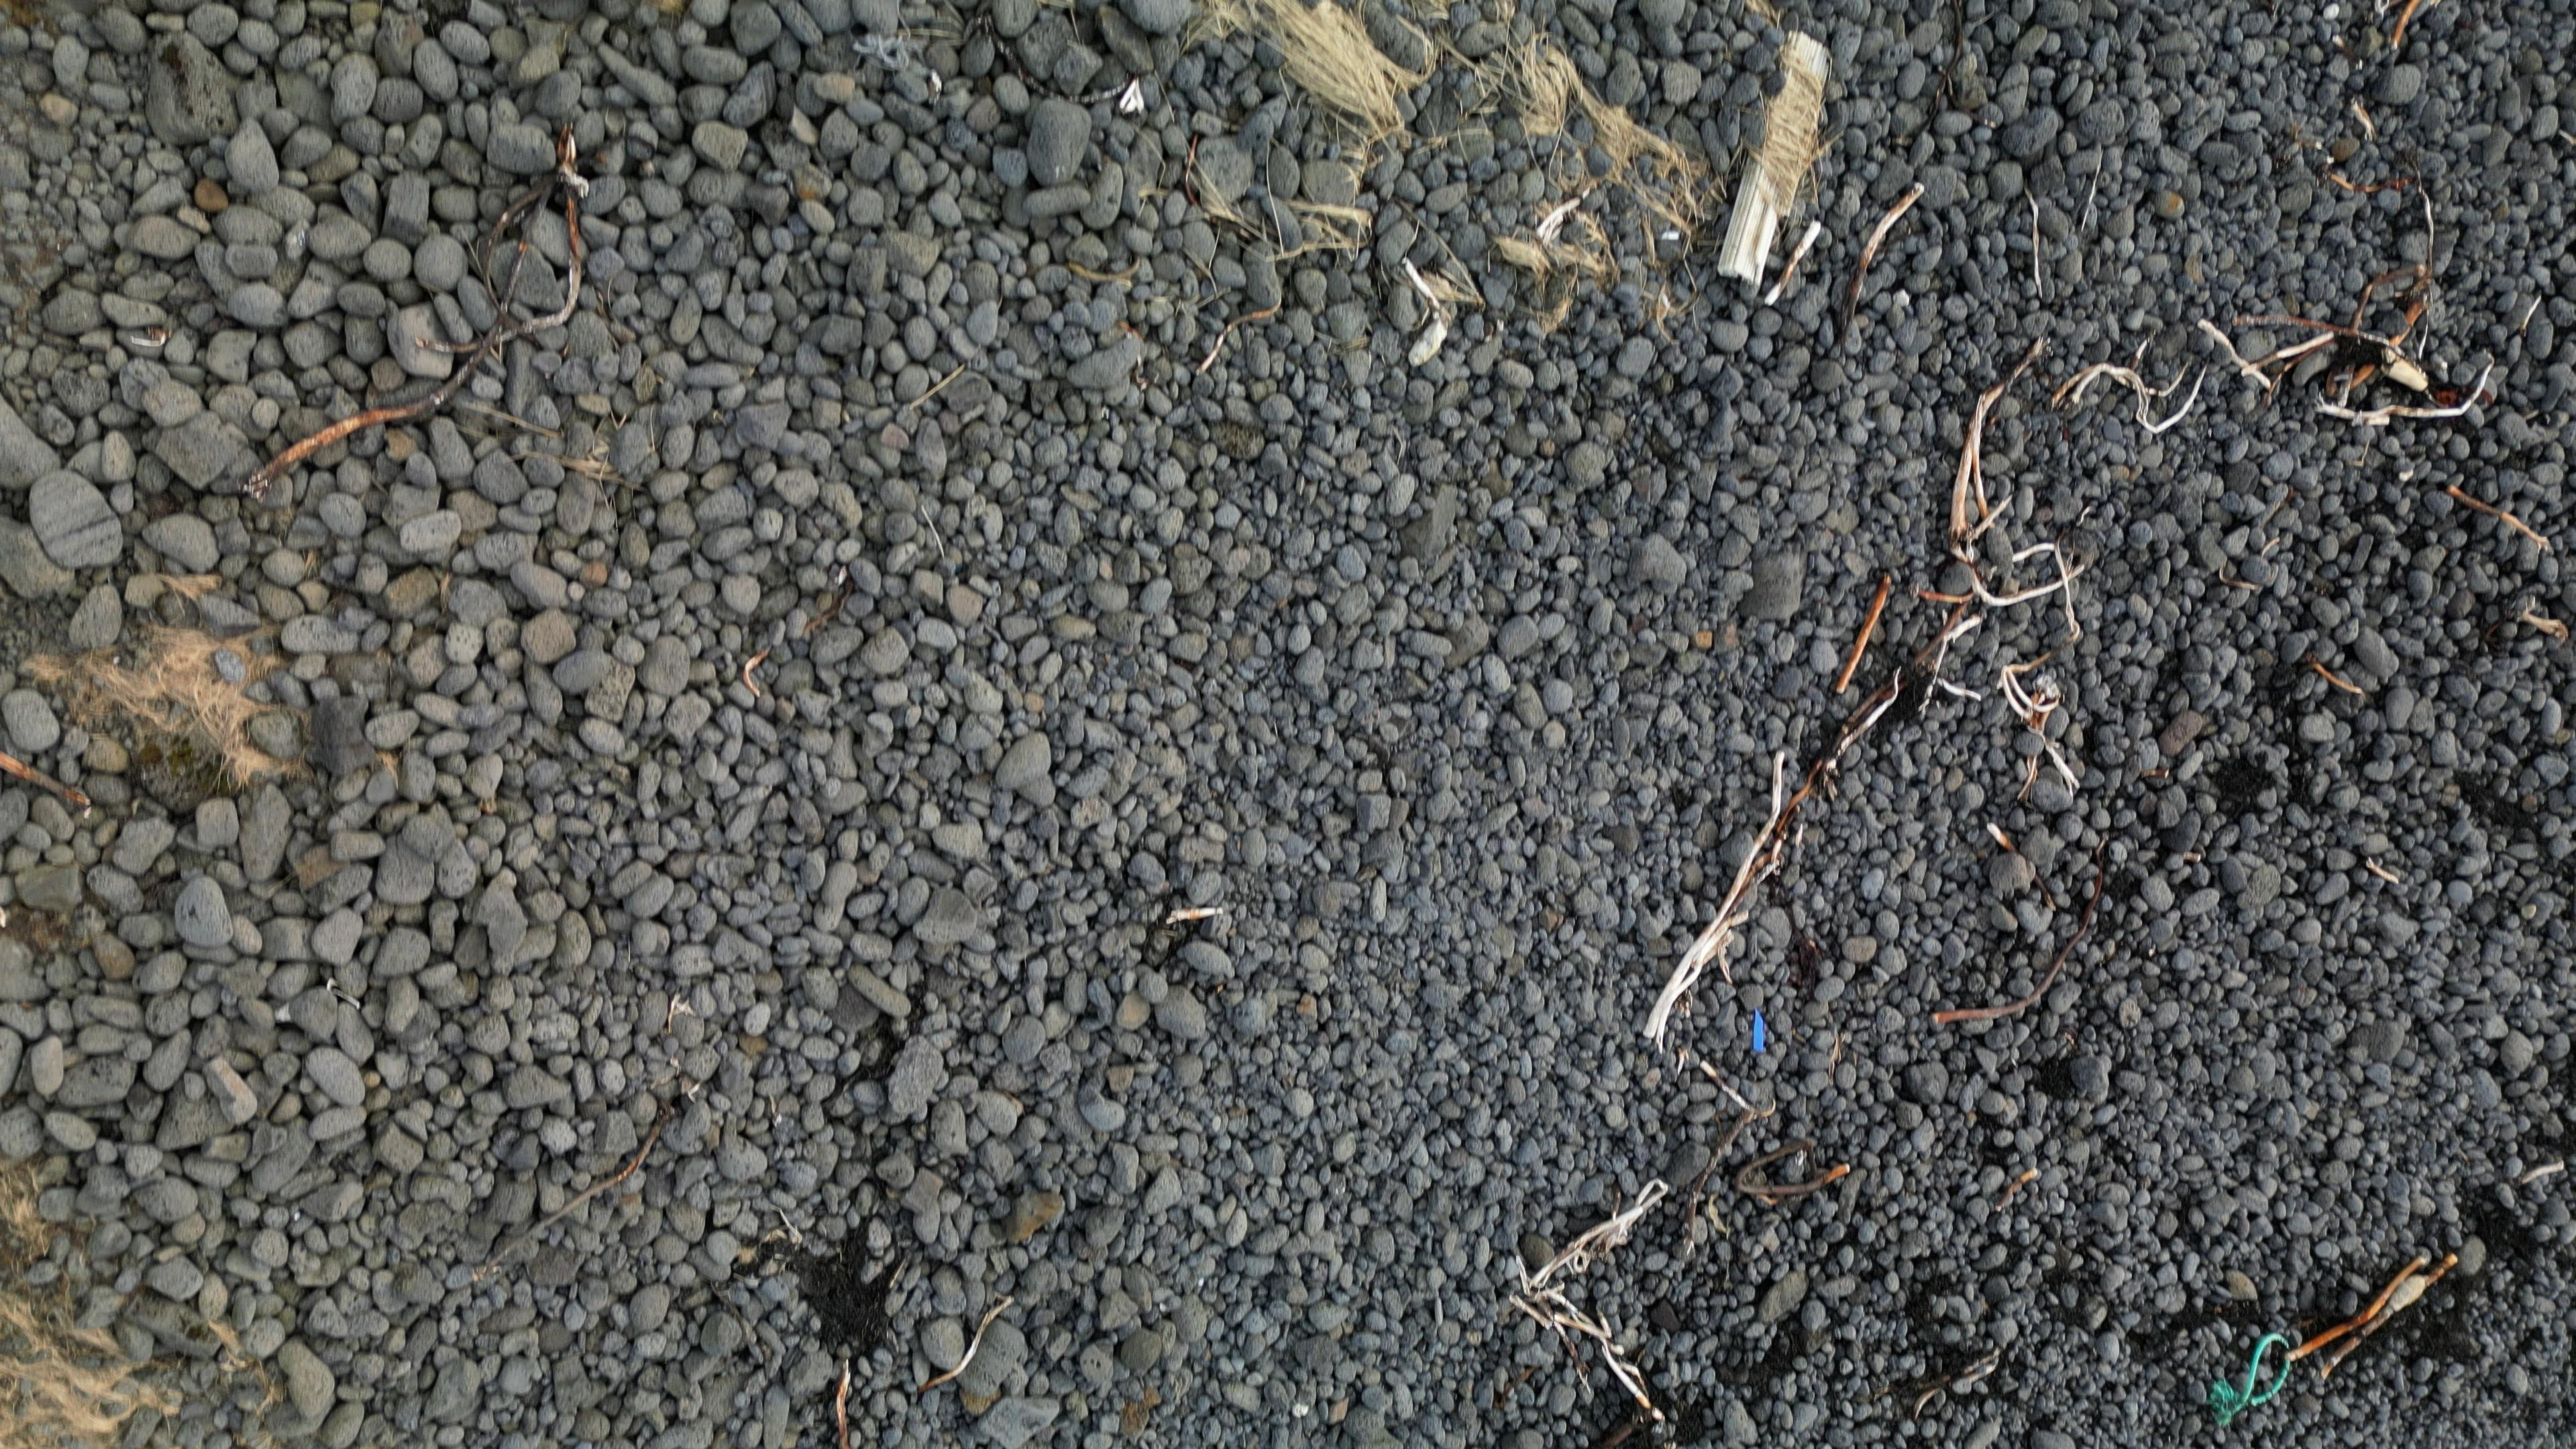trash: (2208, 1334, 2289, 1429), (1751, 1012, 1766, 1052)
